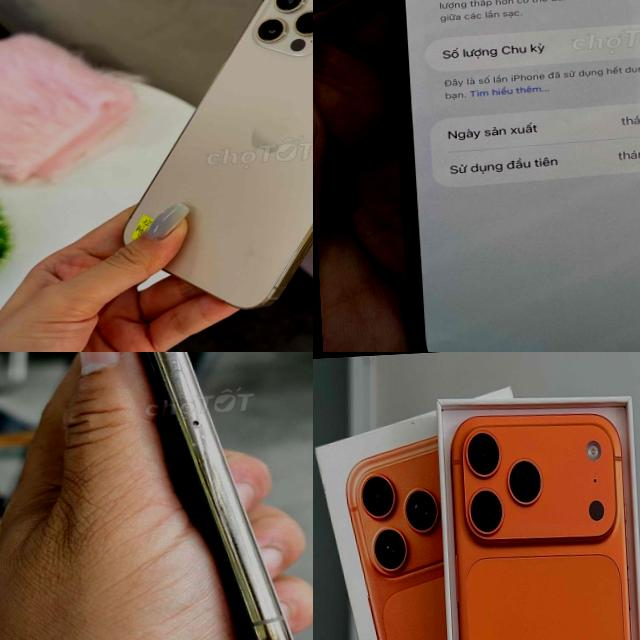gen_12_13: (99, 0, 313, 327)
gen_16: (358, 0, 640, 352)
gen_17: (438, 401, 640, 640)
gen_x_xs: (143, 352, 292, 640)
scratch: (141, 352, 208, 441), (180, 434, 212, 459)
